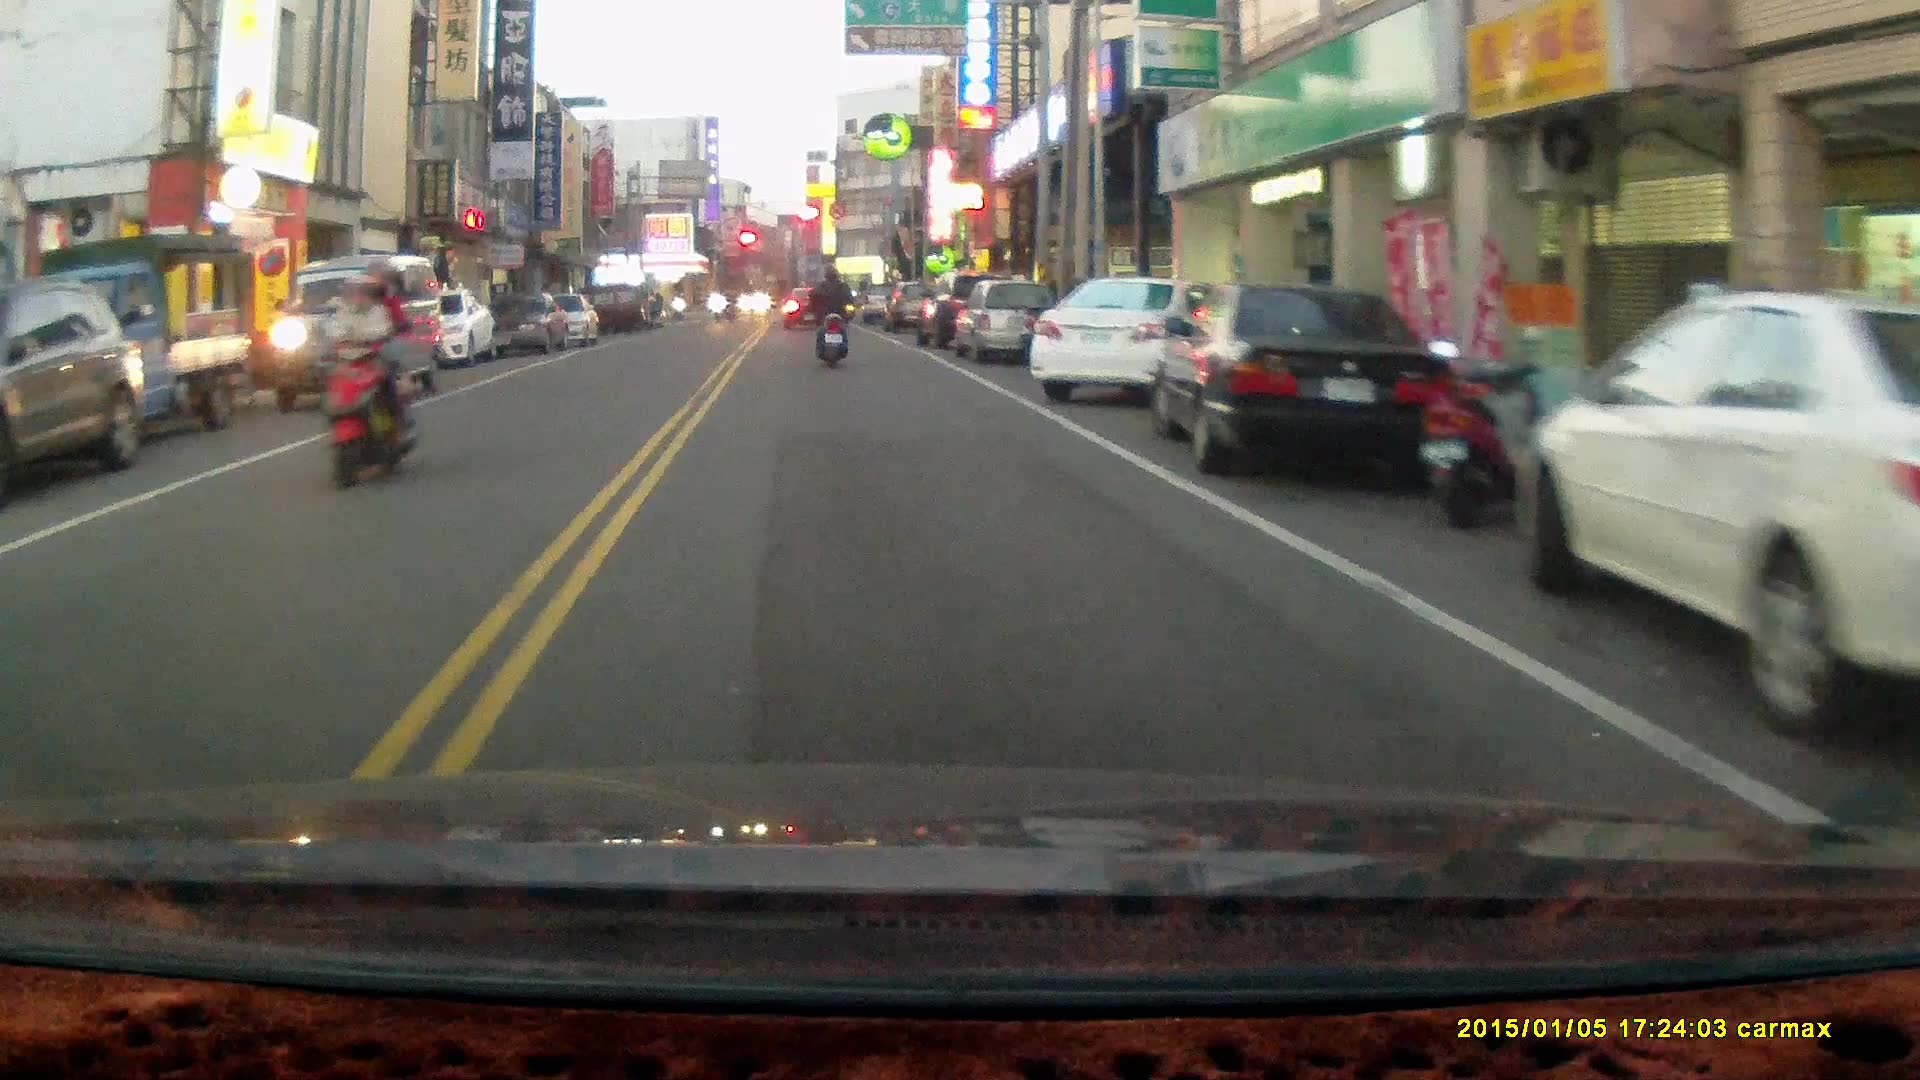rider: (316, 255, 422, 493), (807, 263, 854, 371)
vehicle: (1534, 293, 1920, 764), (1149, 280, 1455, 478), (26, 240, 268, 466), (1, 282, 155, 506), (1028, 274, 1223, 408), (274, 258, 440, 407), (955, 281, 1065, 371)
